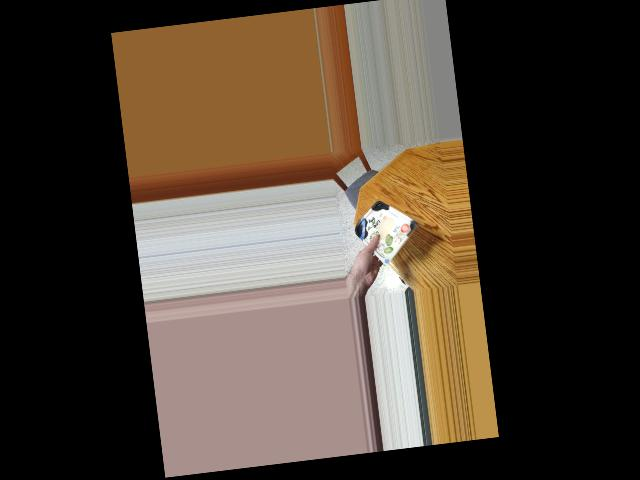cheese: (352, 203, 413, 257)
